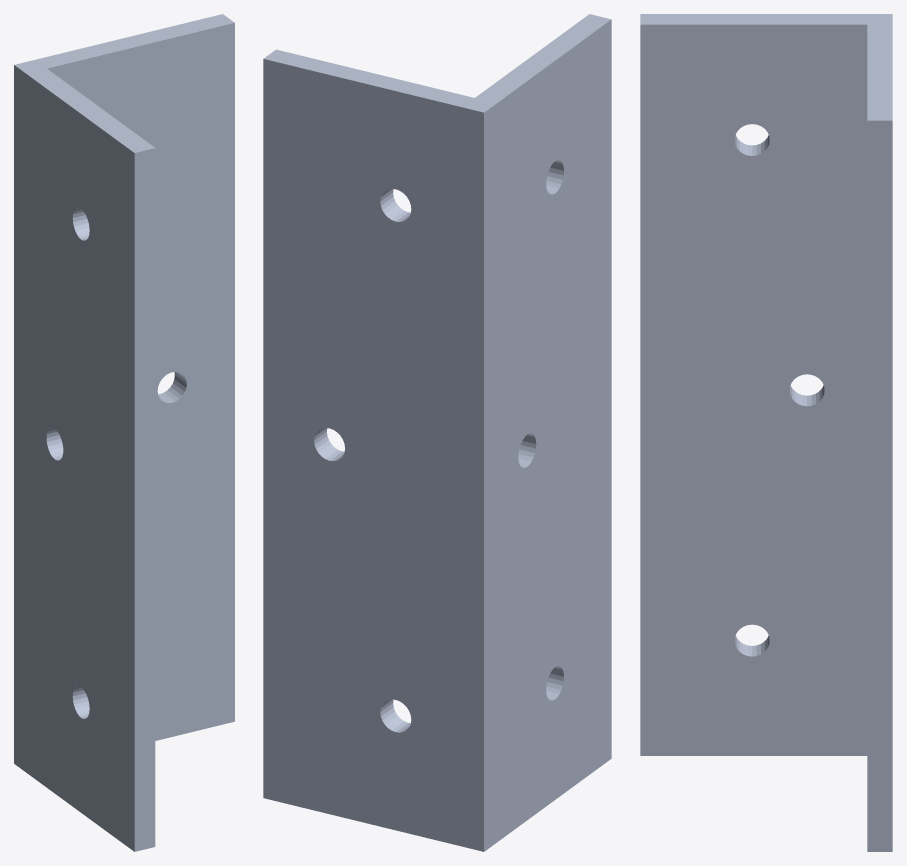
File: Cap_Mount_03_Cap_Mount.obj
The picture shows the model from 3 angles, left to right: view 1: azimuth 30°, elevation 25°; view 2: azimuth 150°, elevation 25°; view 3: azimuth 270°, elevation 25°; orthographic projection. The views are drawn at different scales.
Bounding box in the file's own units: 0.0318 × 0.1016 × 0.0318.
